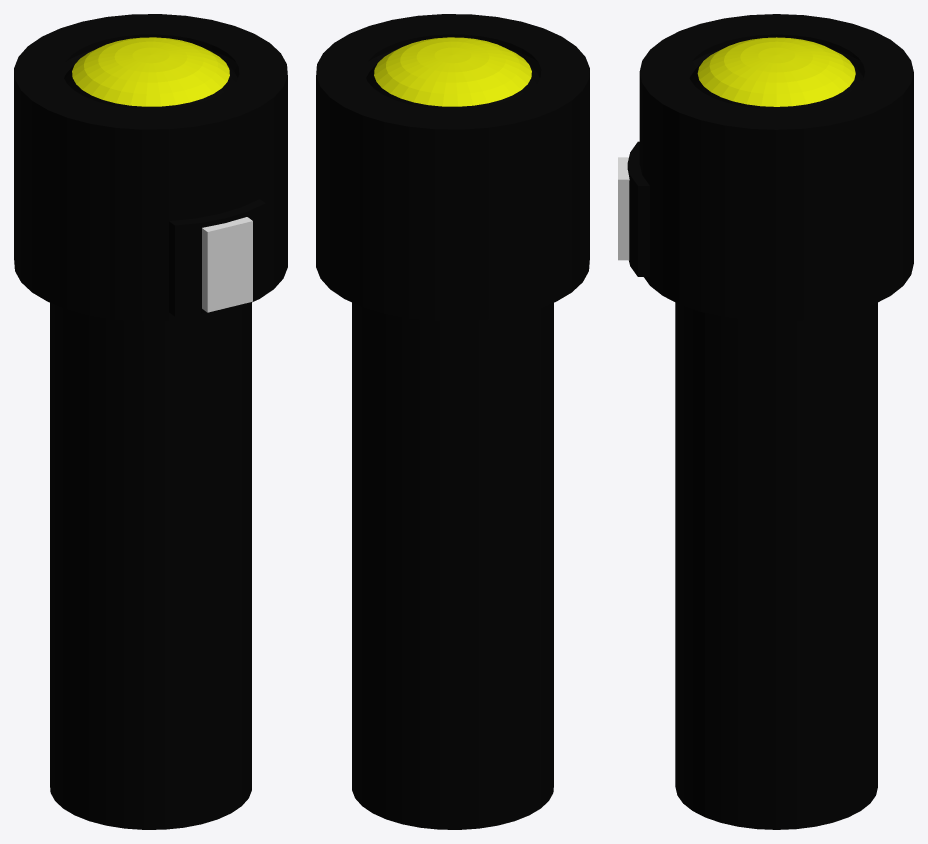
The model's file is flash.fbx.
The picture shows the model from 3 angles, left to right: view 1: azimuth 30°, elevation 25°; view 2: azimuth 150°, elevation 25°; view 3: azimuth 270°, elevation 25°; orthographic projection.
Visible parts, largest first — view 1: 실린더, 큐브; view 2: 실린더; view 3: 실린더, 큐브.
Part boxes in pixels (x1,y1,x2,y2): 실린더: (14, 14, 287, 829); 큐브: (202, 217, 252, 312); 실린더: (316, 14, 589, 829); 실린더: (627, 14, 913, 829); 큐브: (618, 157, 629, 260).
Bounding box in the file's own units: 271 × 798 × 292.
